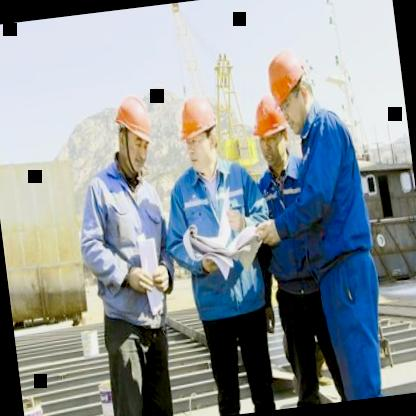helmet: (260, 42, 320, 129), (107, 86, 162, 179), (169, 87, 226, 176), (247, 89, 294, 176)
